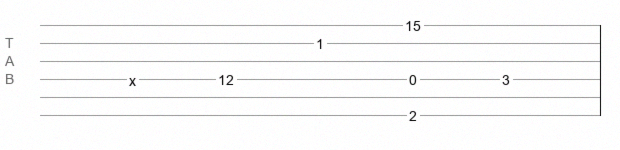0: (409, 72, 417, 82)
1: (316, 36, 324, 46)
12: (218, 72, 234, 82)
15: (405, 18, 421, 28)
2: (409, 108, 417, 118)
3: (502, 72, 510, 82)
x: (129, 73, 136, 81)
